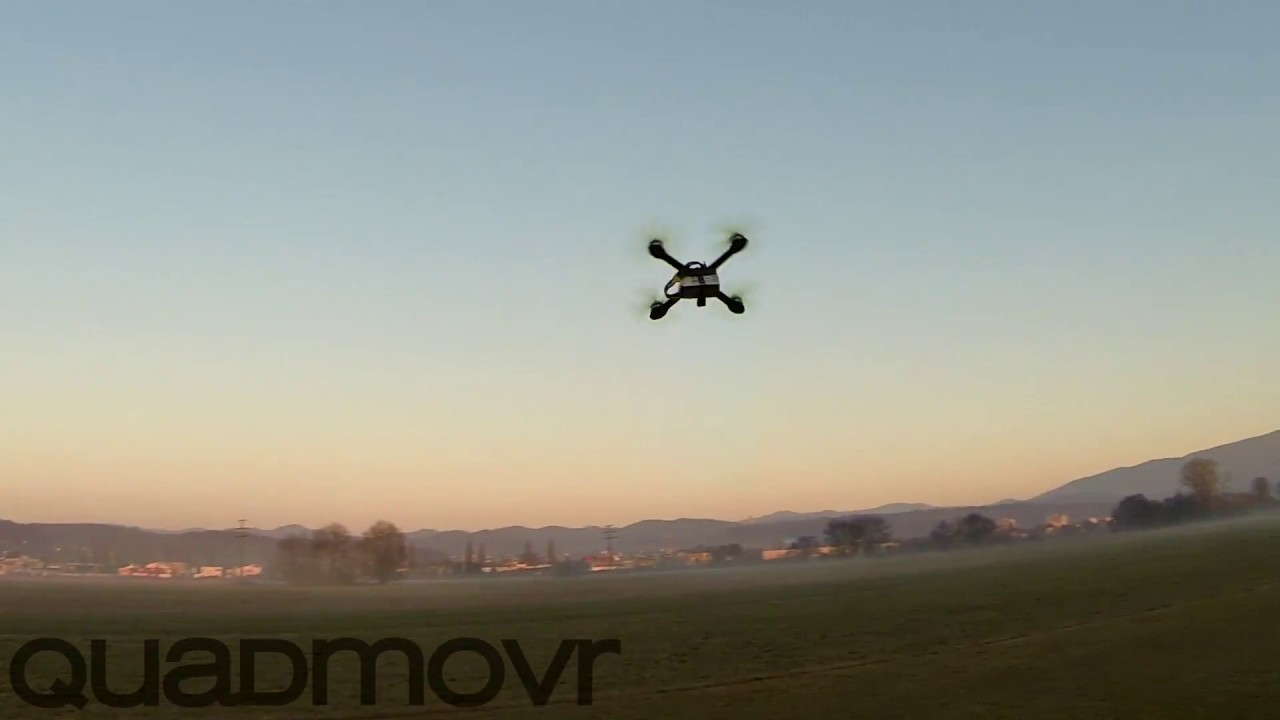drone: (640, 230, 752, 323)
